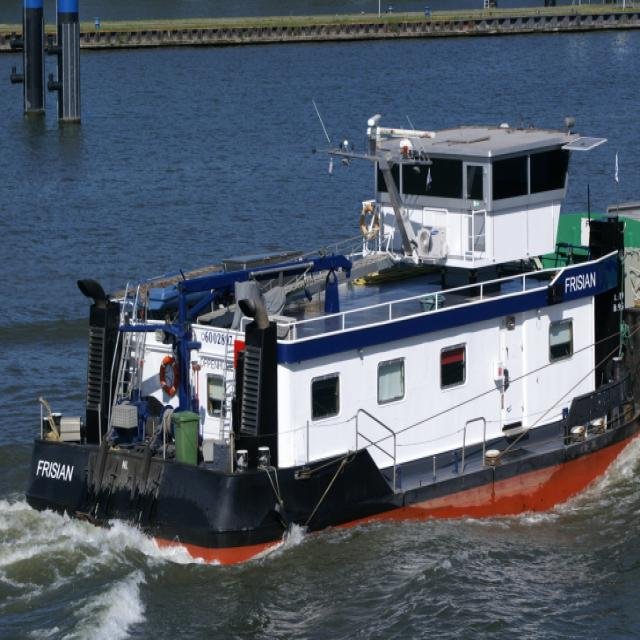tugboat: (24, 107, 640, 583)
